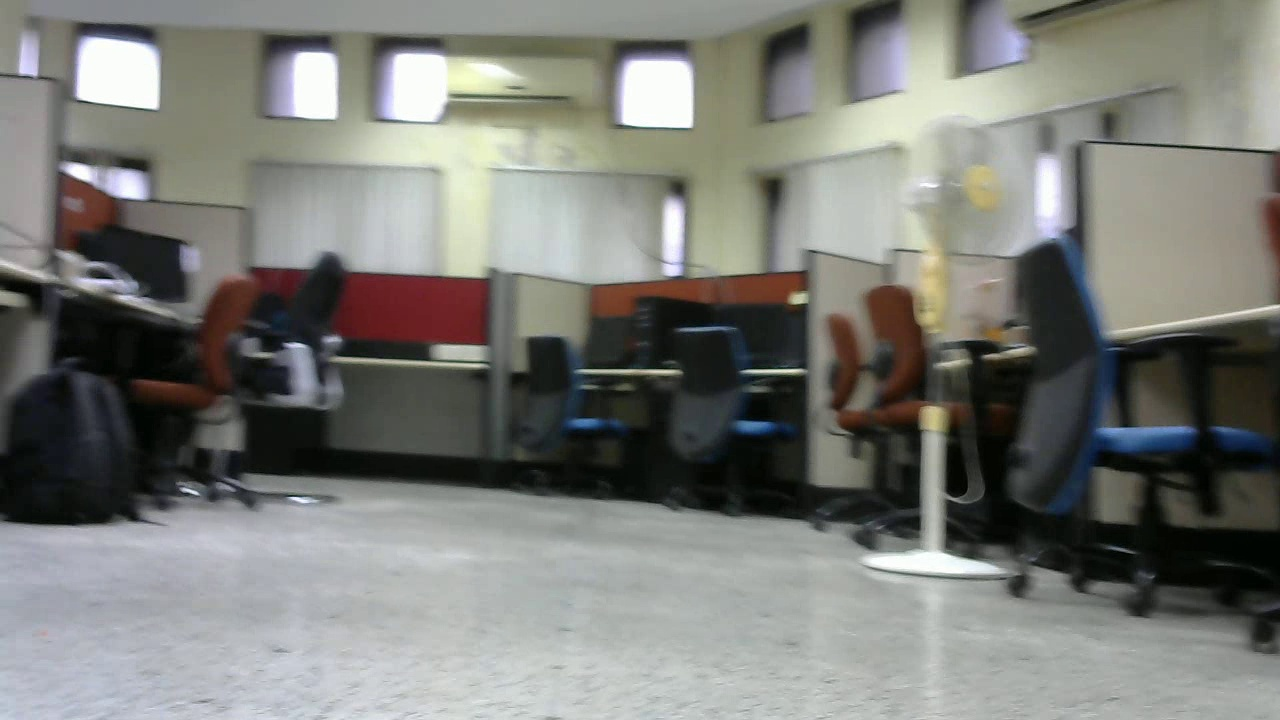chair: (961, 234, 1280, 631), (817, 284, 1011, 545), (216, 250, 370, 505), (116, 270, 260, 515), (665, 326, 804, 528), (511, 335, 636, 493)
